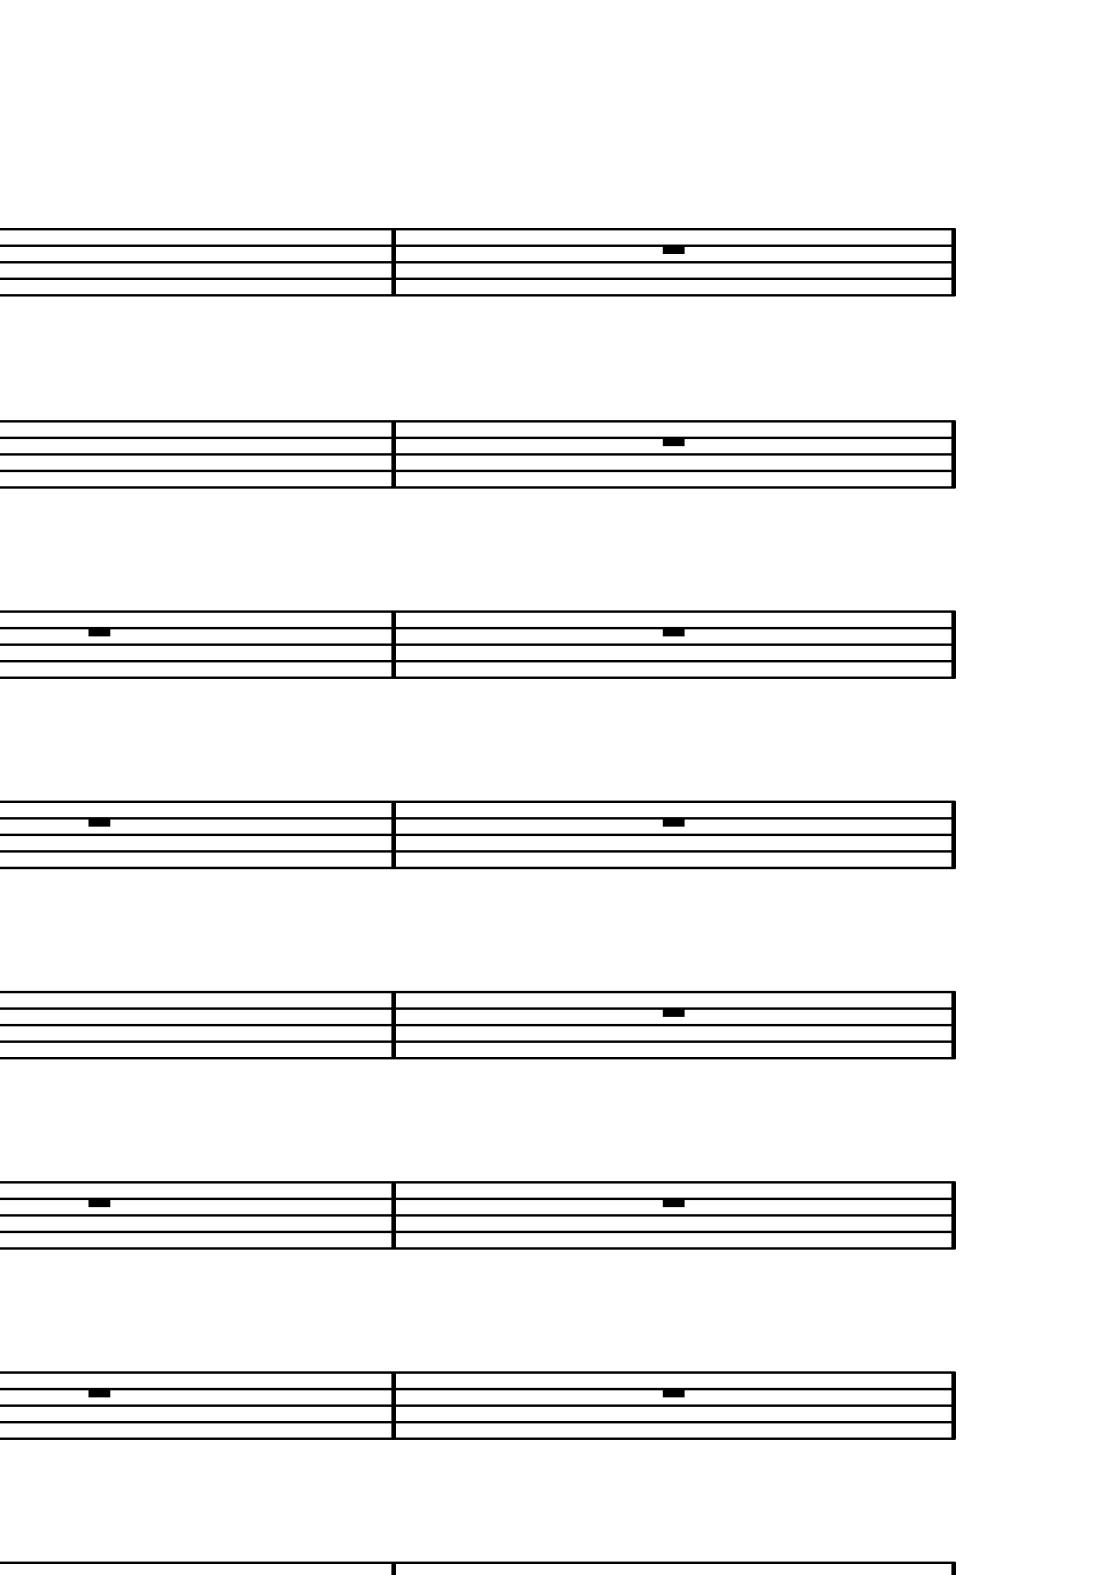Rests1: (655, 813, 690, 833), (83, 1194, 120, 1213), (83, 623, 117, 642), (656, 1003, 691, 1021), (660, 1382, 690, 1403), (655, 435, 691, 452), (660, 620, 689, 641), (659, 1192, 690, 1210), (84, 1384, 114, 1402), (659, 242, 690, 258), (86, 816, 117, 831)
Single_barline: (940, 801, 964, 869), (940, 1181, 964, 1250), (940, 610, 964, 679), (381, 421, 405, 489), (381, 229, 405, 296), (940, 421, 964, 489), (940, 1373, 964, 1440), (940, 992, 964, 1060), (940, 229, 964, 296), (381, 1372, 404, 1440), (382, 610, 405, 679), (381, 802, 404, 869), (381, 992, 404, 1058), (382, 1181, 404, 1250)
